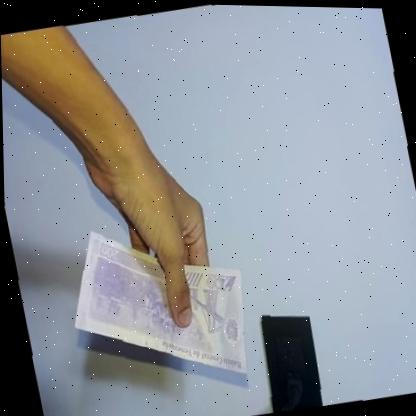two_hundred-back-vef: (54, 203, 260, 400)
